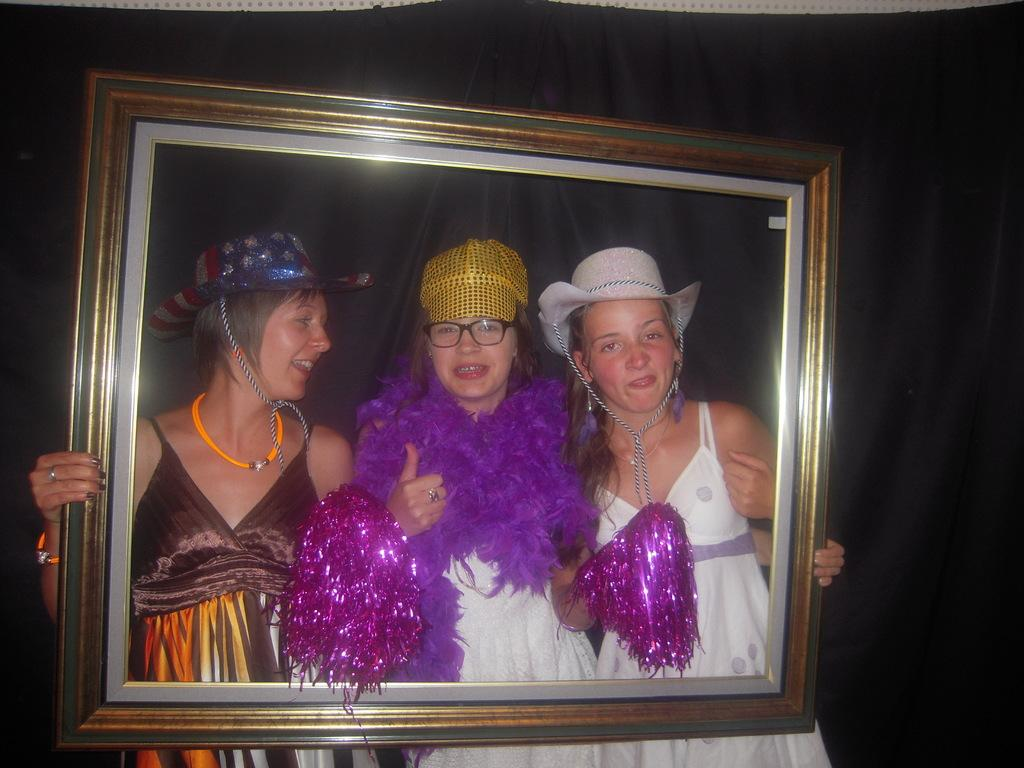Hat: (146, 226, 372, 475), (535, 246, 700, 504)
